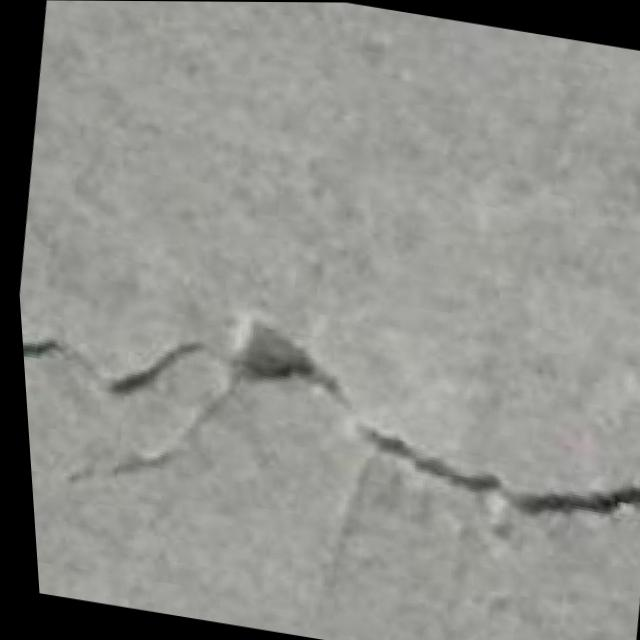Crack: (14, 271, 640, 590)
